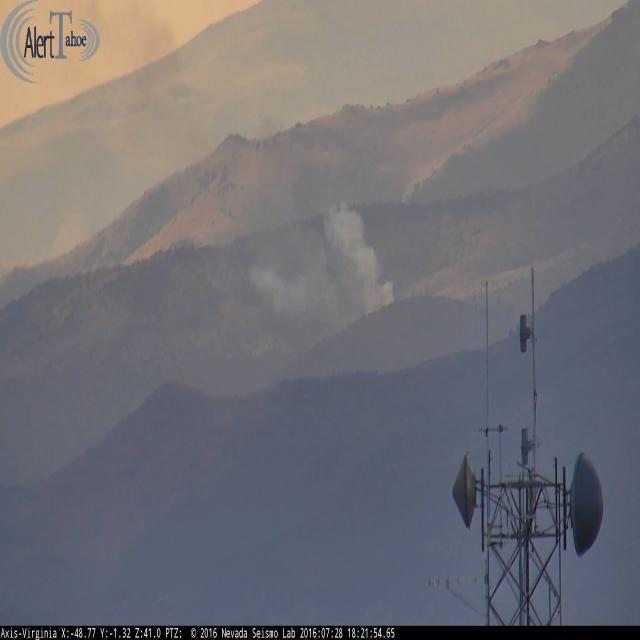smoke: (252, 248, 345, 349), (327, 206, 397, 313)
